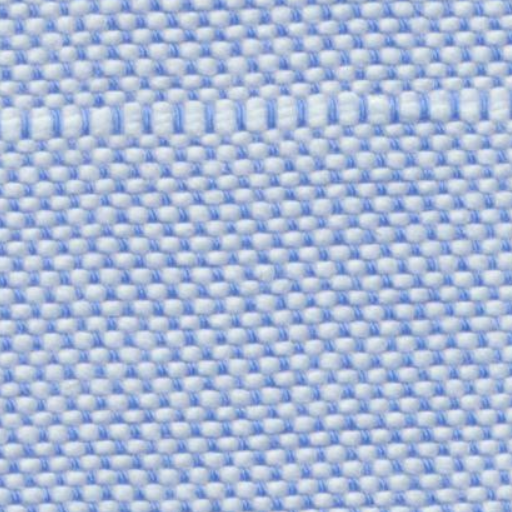TuoSha: (12, 70, 492, 170)
